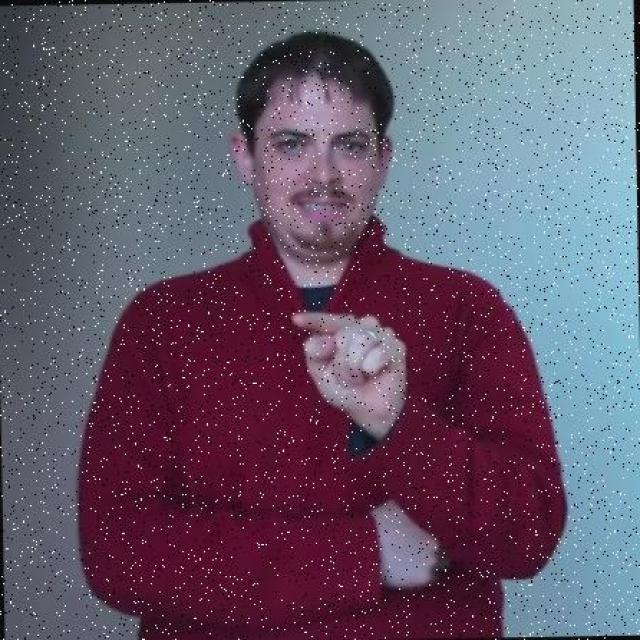Z: (286, 303, 413, 415)
